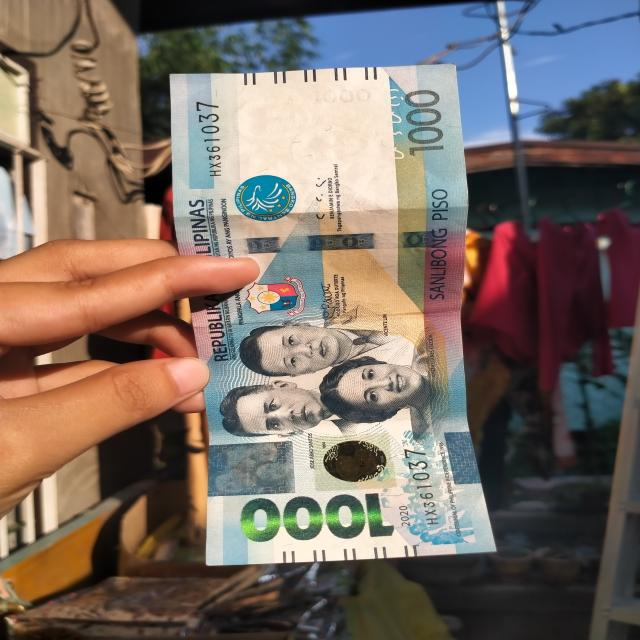concealed_value: (210, 442, 297, 494)
optically_variable_device: (313, 436, 398, 490)
security_thread: (178, 230, 467, 253)
see_through_mark: (378, 84, 409, 162)
serial_number: (192, 95, 238, 184), (399, 444, 444, 527)
value: (239, 486, 400, 540)
